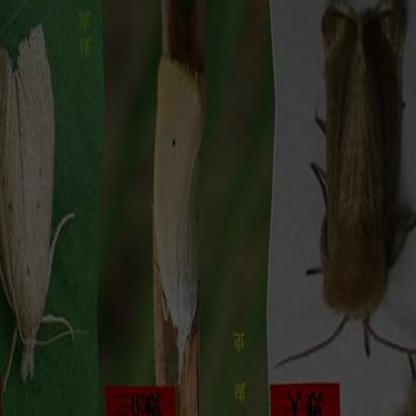stem-borer: (278, 0, 416, 368), (0, 21, 66, 388), (150, 49, 207, 384)
